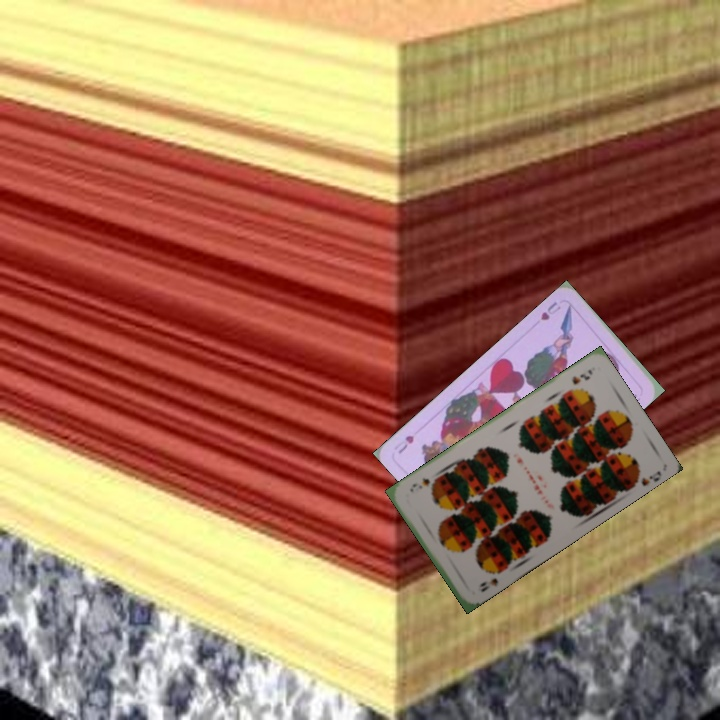HU: (536, 297, 563, 323)
S9: (476, 565, 505, 595), (568, 365, 595, 387)
